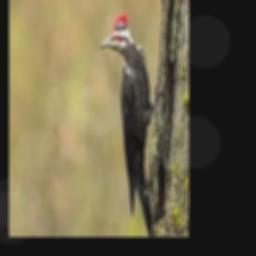Woodpecker: (101, 15, 165, 236)
